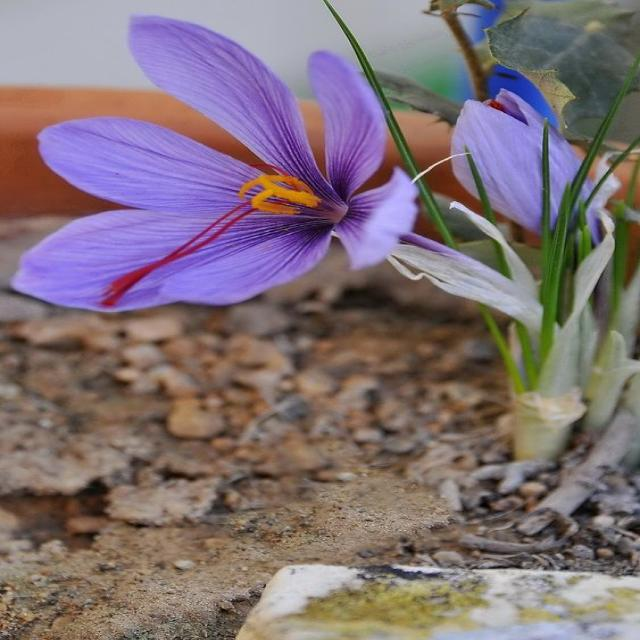Flower: (12, 12, 420, 313)
stigma: (114, 208, 258, 311), (104, 201, 255, 298)
